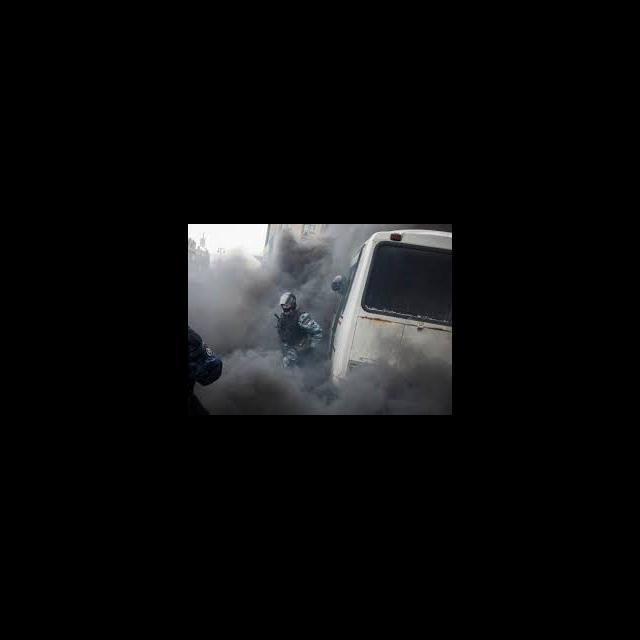Smoke: (190, 231, 448, 414)
